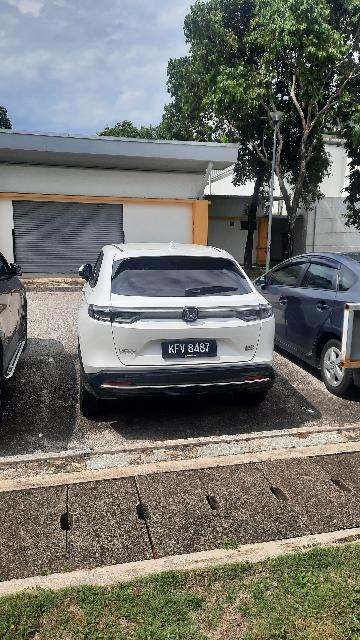License_Plate: (158, 340, 220, 362)
car: (75, 240, 277, 413)
